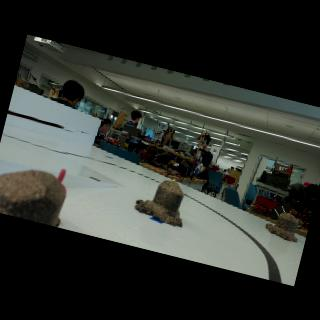teletubby: (57, 169, 65, 194), (173, 179, 175, 181)
